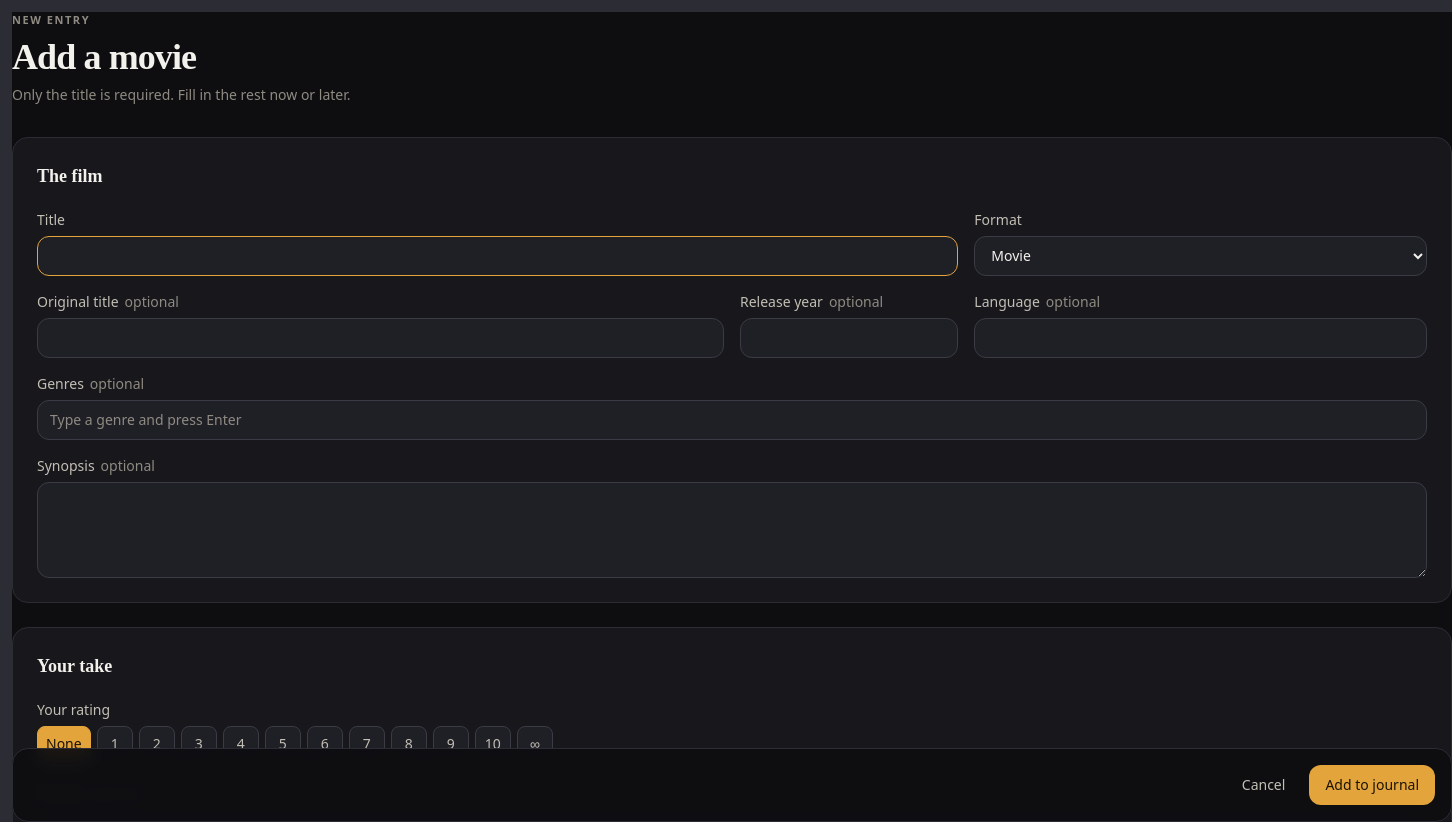
Test: Adding a movie › warns about a possible duplicate and blocks an exact one
The image size is (1452, 822).
Type "Drishyam" into the field labelled "Title". click: (498, 256)
box: 37,236 -> 958,276
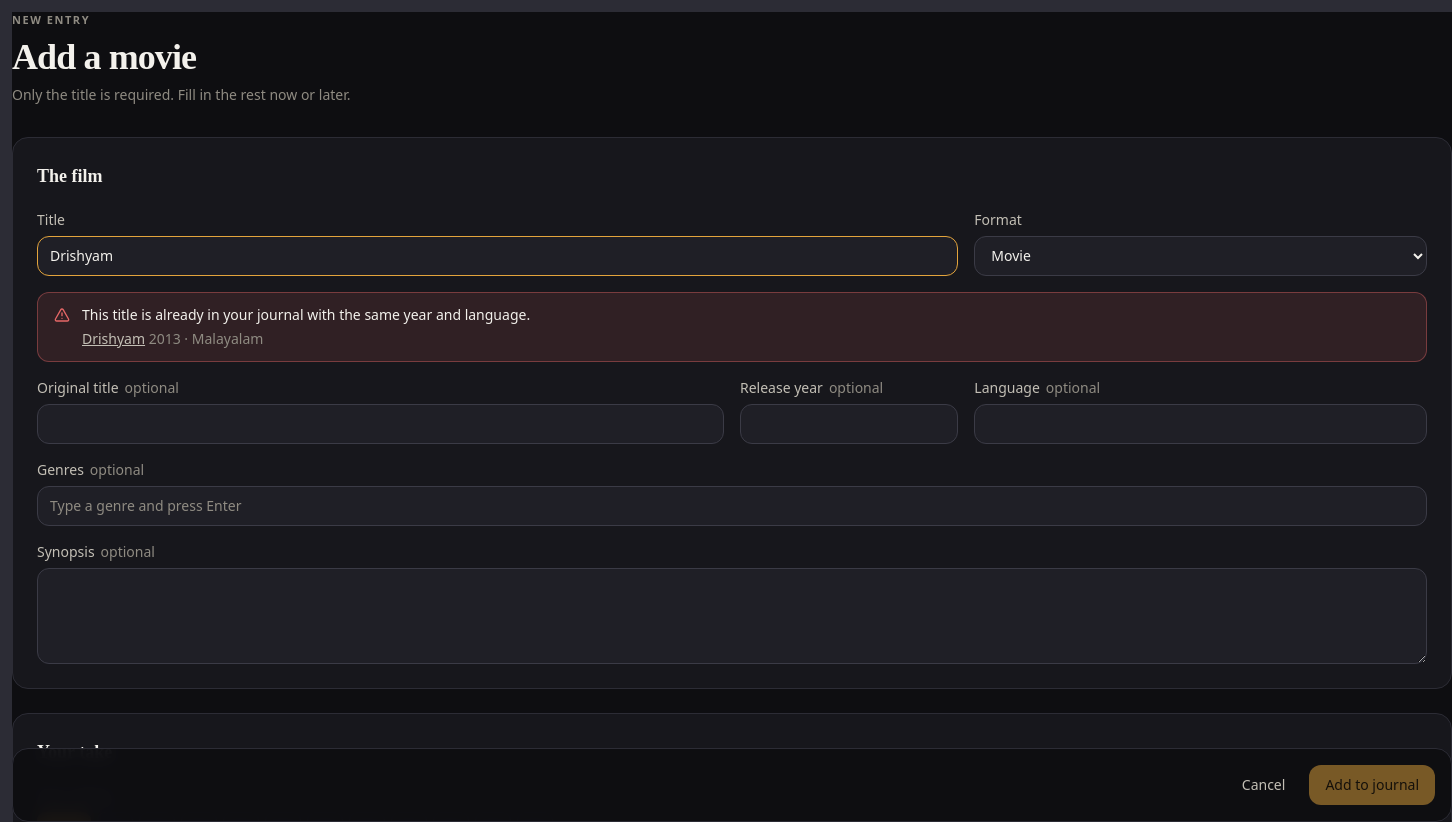
Now the text "already in your journal" is shown, box 82,304 -> 530,324
Now the button "Add to journal" is disabled, box 1309,765 -> 1435,805
